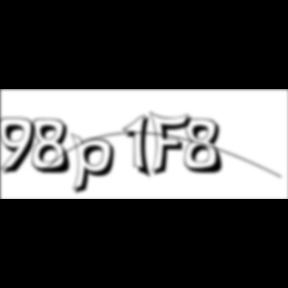1: (122, 114, 158, 182)
8: (32, 117, 78, 176), (184, 117, 230, 176)
9: (1, 117, 44, 177)
F: (149, 110, 197, 178)
p: (71, 132, 121, 198)
